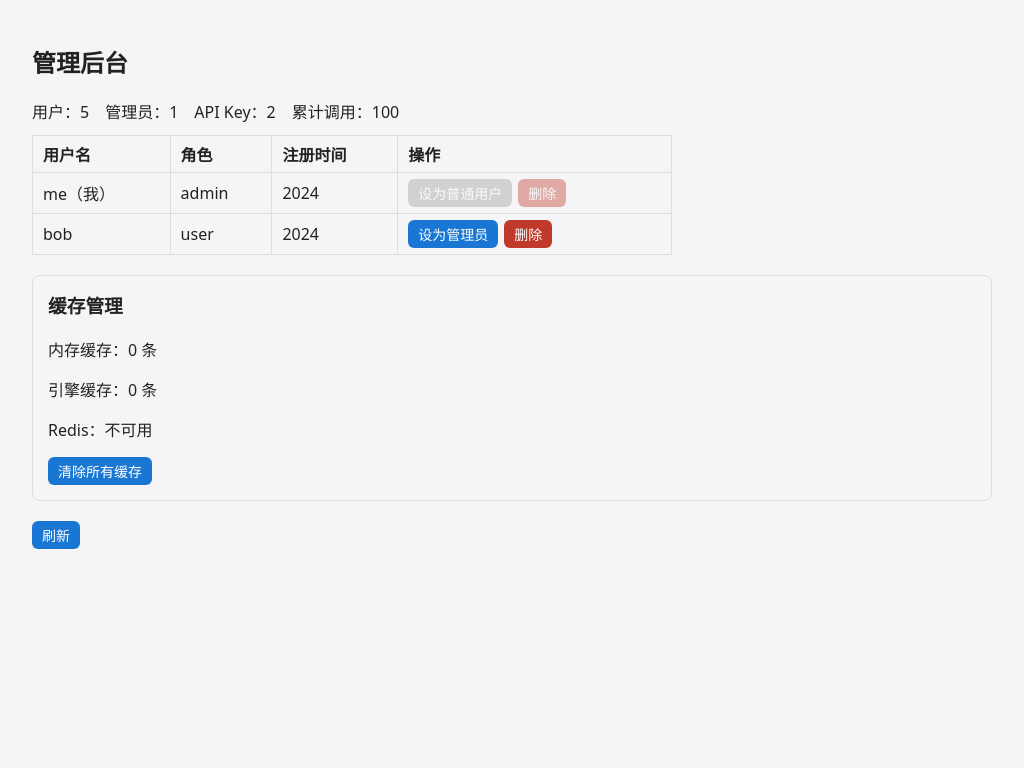
it: Admin › 删除用户失败时显示错误
What coordinates should you click on to do the following:
click the button "删除" in the row of "bob"
I would click on:
 (528, 234)
Its box is [504,220,552,248].
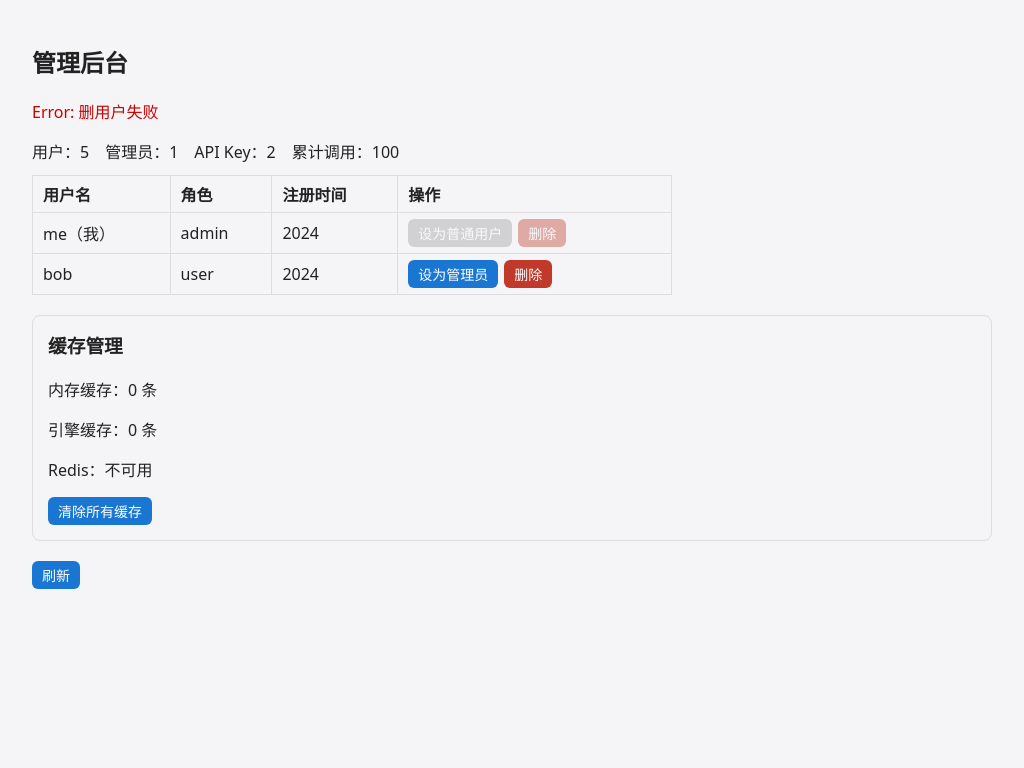
expect the text "删用户失败" is shown: met, box [32,101,158,123]
